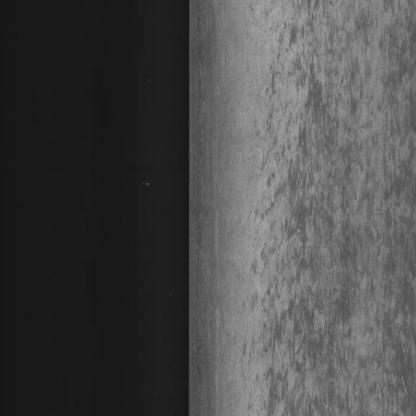silk_spot: (240, 7, 416, 394)
